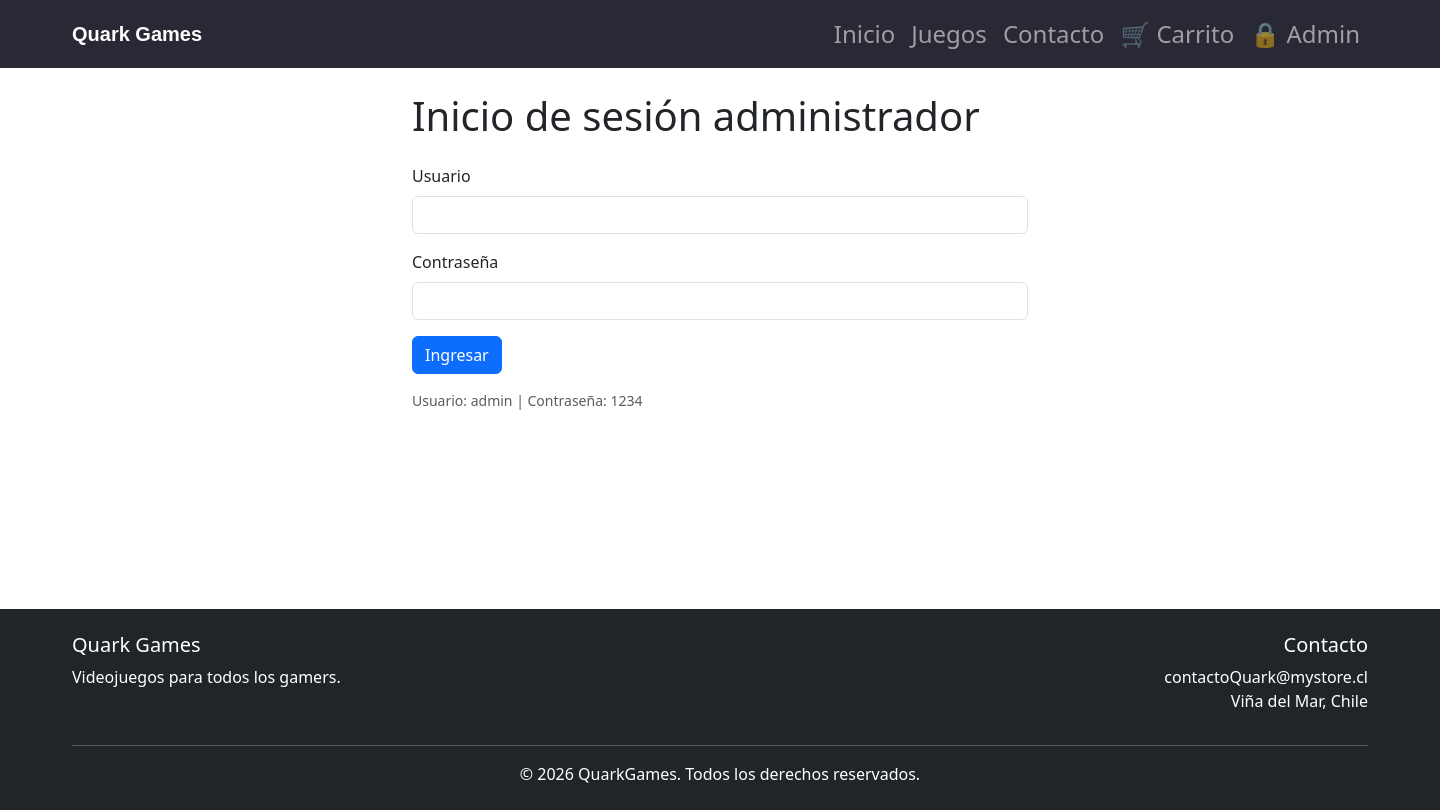
App: integración de rutas, sesión y carrito › muestra un error por campo al enviar el login vacío
2 Actuar: enviamos el formulario sin escribir nada
Click the button "Ingresar" at point(457, 355), box [412, 336, 502, 374]
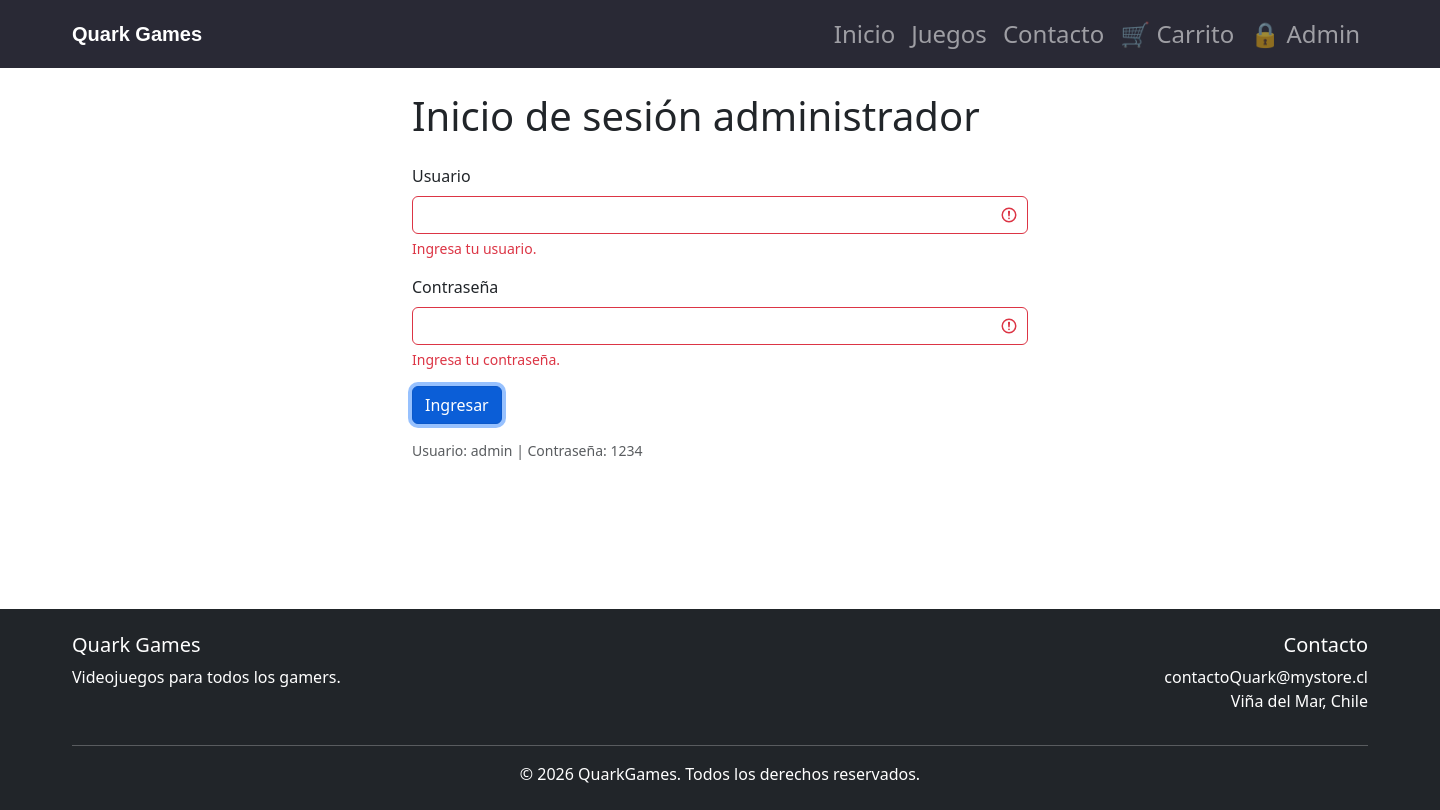
Expected: the text "Ingresa tu usuario." is shown, [412, 239, 536, 258]
Expected: the text "Ingresa tu contraseña." is shown, [412, 350, 560, 369]
